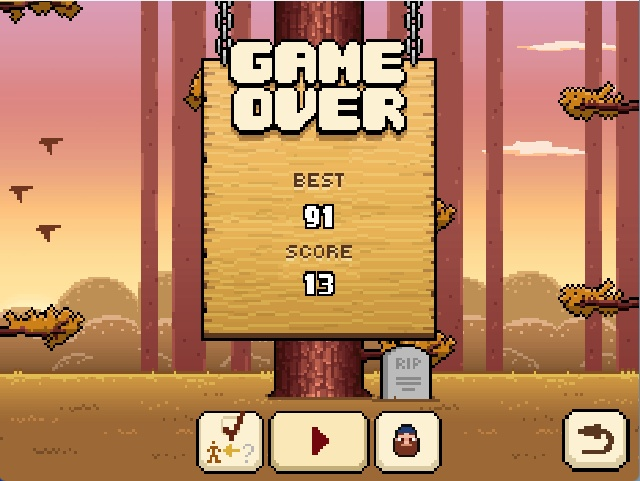game_over: (222, 30, 416, 147)
